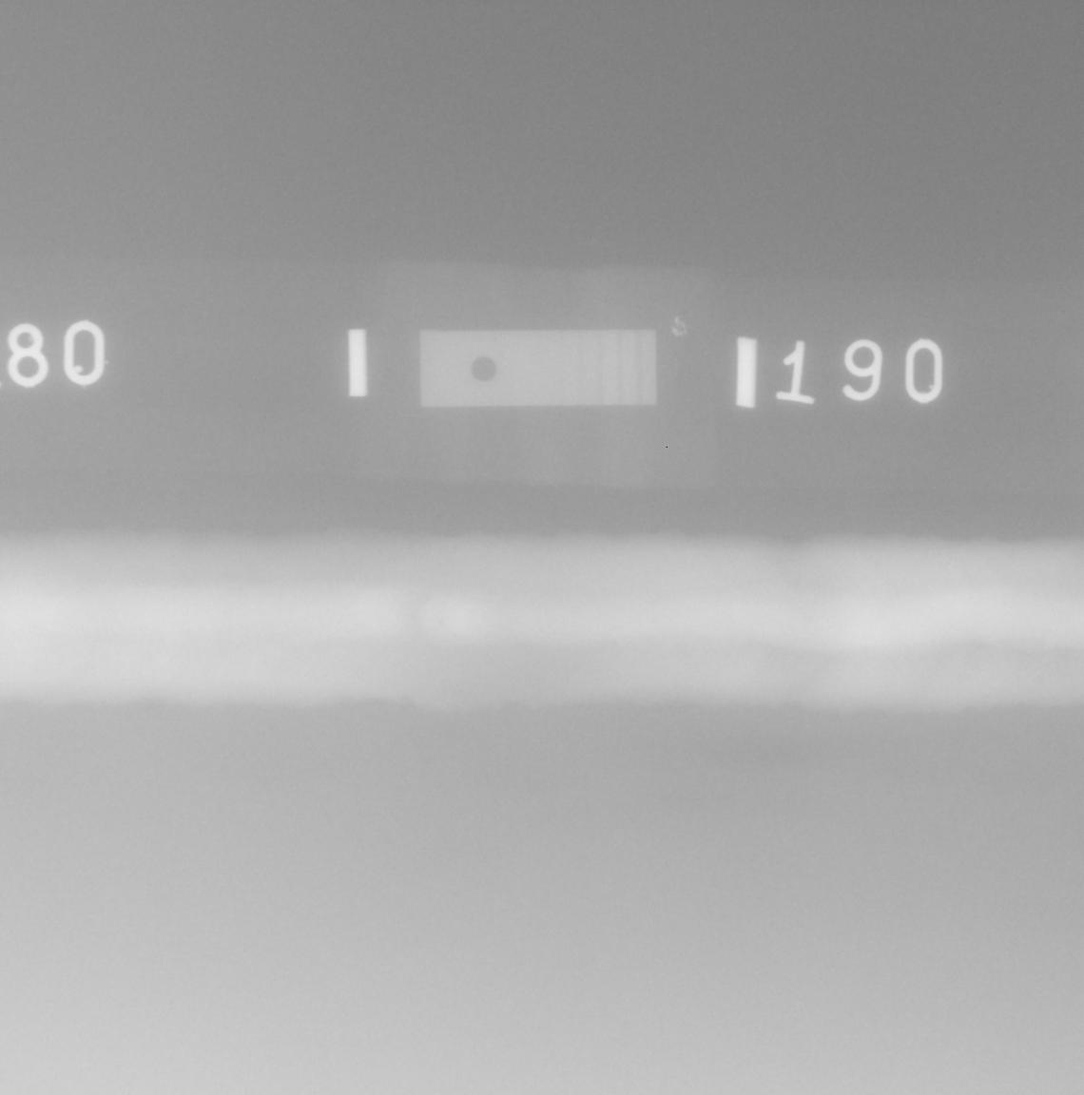Pore/Porosity: (439, 621, 443, 625), (443, 601, 448, 604), (630, 566, 634, 569)
Reference Standard 1: (418, 329, 656, 407)
